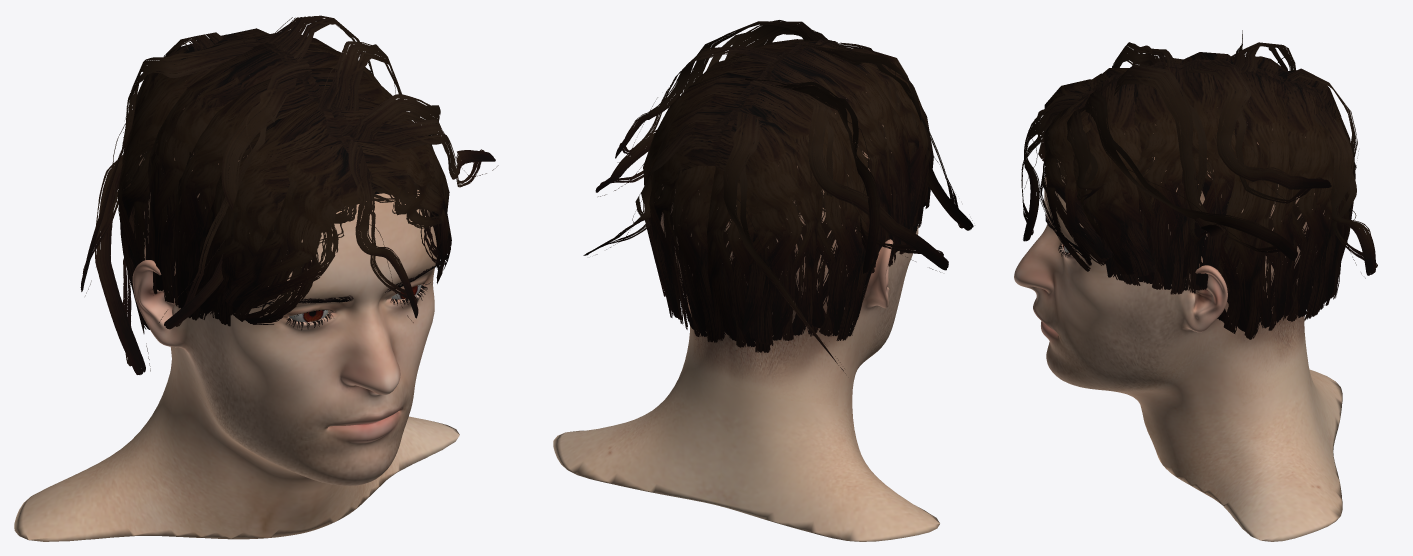
Rendered from street01-head-authored.glb.
The picture shows the model from 3 angles, left to right: view 1: azimuth 30°, elevation 25°; view 2: azimuth 150°, elevation 25°; view 3: azimuth 270°, elevation 25°; orthographic projection. The views are drawn at different scales.
Parts seen in each view (by area): view 1: Street01_Cortu_AuthoredHair_Runtime, Street01_Authored_HeadRuntime_Runtime; view 2: Street01_Cortu_AuthoredHair_Runtime, Street01_Authored_HeadRuntime_Runtime; view 3: Street01_Cortu_AuthoredHair_Runtime, Street01_Authored_HeadRuntime_Runtime.
Boxes of the visible parts, x1,y1,x2,y2 form: Street01_Cortu_AuthoredHair_Runtime: [80, 15, 498, 374]; Street01_Authored_HeadRuntime_Runtime: [14, 108, 459, 541]; Street01_Cortu_AuthoredHair_Runtime: [583, 20, 973, 373]; Street01_Authored_HeadRuntime_Runtime: [553, 92, 939, 541]; Street01_Cortu_AuthoredHair_Runtime: [1021, 30, 1377, 339]; Street01_Authored_HeadRuntime_Runtime: [1014, 124, 1342, 541].
Size of the model in its own units: 0.2886 by 0.302 by 0.2597.
Materials: 5 (5 with a texture image).
